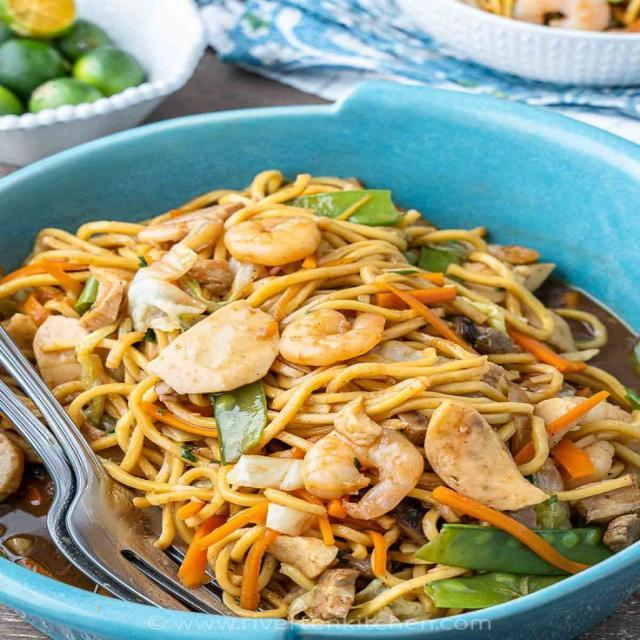pancit bihon: (6, 132, 640, 619)
